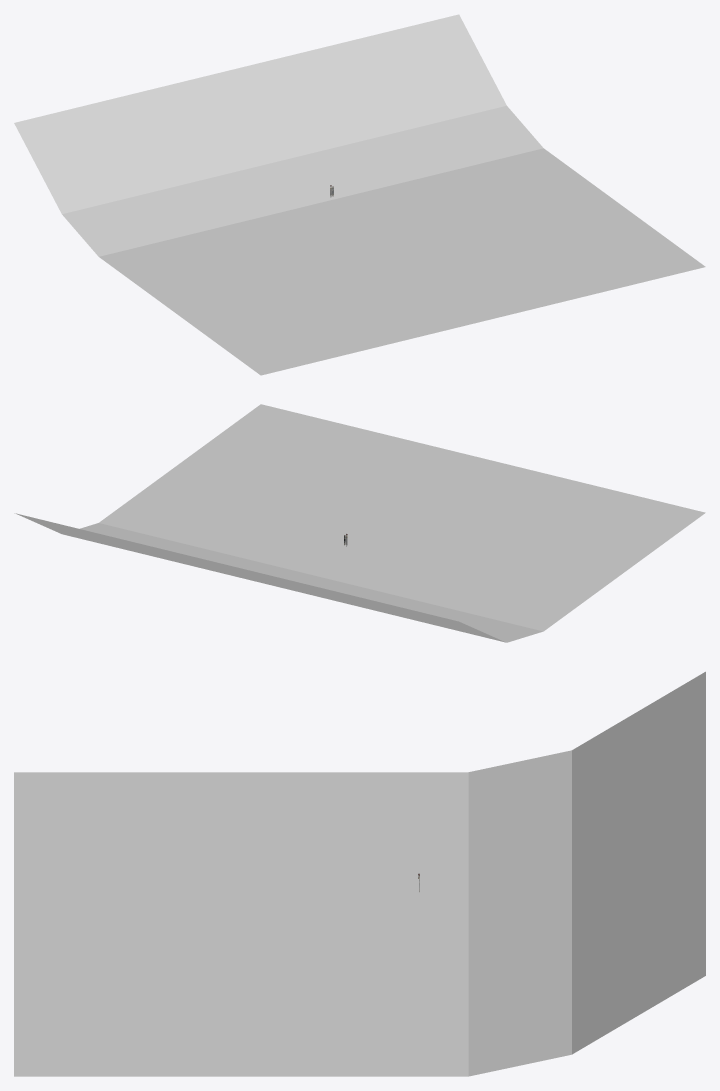
Rendered from Gladius.dae.
The picture shows the model from 3 angles, top to bottom: view 1: azimuth 30°, elevation 25°; view 2: azimuth 150°, elevation 25°; view 3: azimuth 270°, elevation 25°; orthographic projection. The views are drawn at different scales.
Parts seen in each view (by area): view 1: Plane; view 2: Plane; view 3: Plane.
Part boxes in pixels (left/top/right/bottom): Plane: left=14, top=14, right=705, bottom=375; Plane: left=14, top=404, right=705, bottom=642; Plane: left=14, top=671, right=705, bottom=1076.
Size of the model in its own units: 25.86 by 24.85 by 3.99.
Materials: 5 (4 with a texture image).
